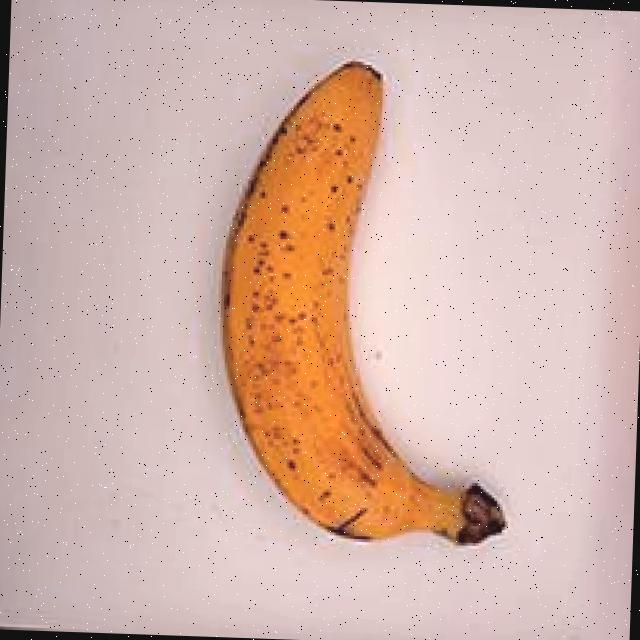Overripe: (188, 44, 546, 569)
